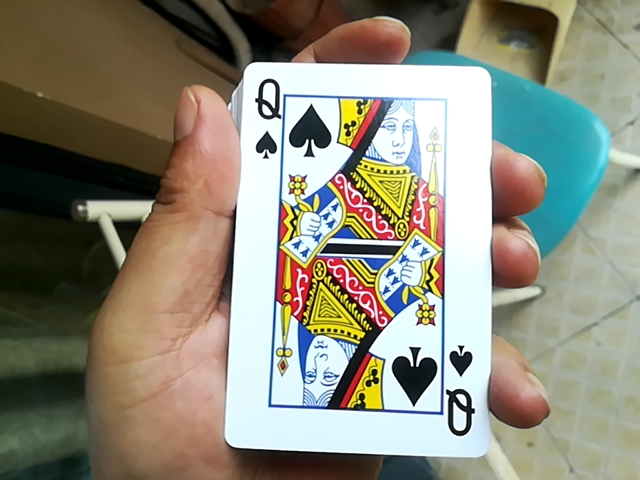ht q: (193, 66, 494, 459)
